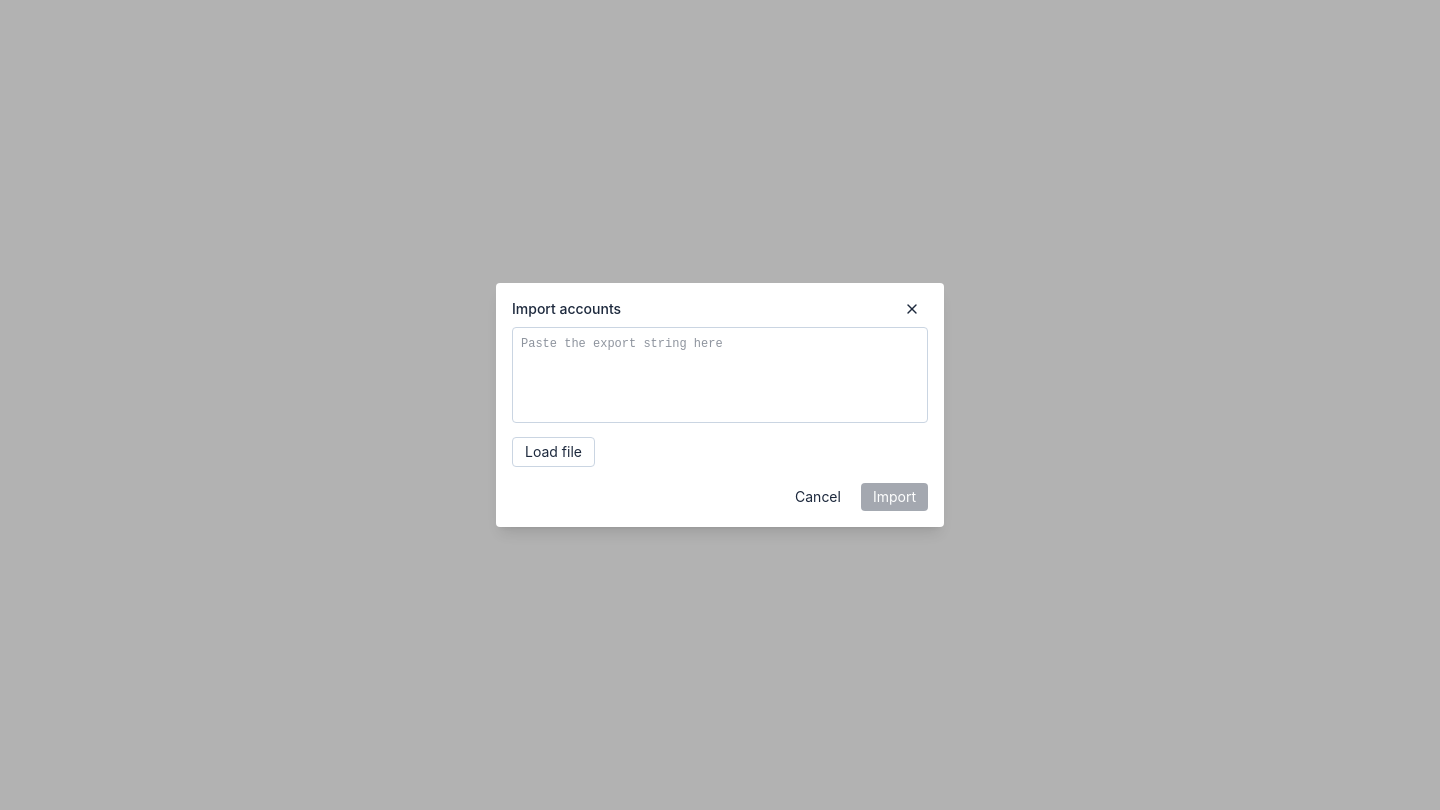
ImportAccountsDialog › shows an inline error on an incorrect password and keeps Import disabled
Type "ENC" into the text box named "Import data".
click(720, 375); type("ENC")  # box [512, 327, 928, 423]
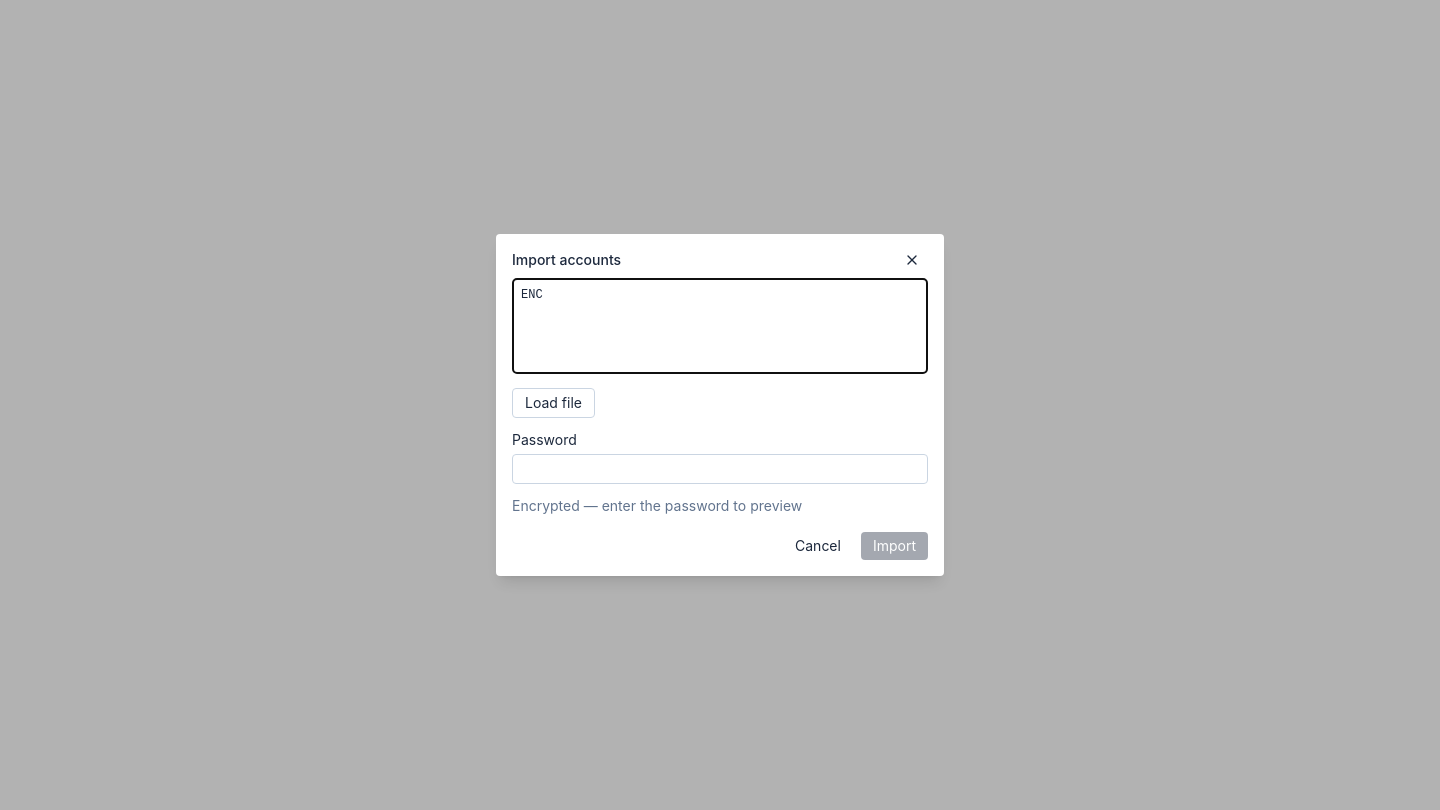
Type "wrong" into the password field labelled "Password".
click(720, 469); type("wrong")  # box [512, 454, 928, 484]
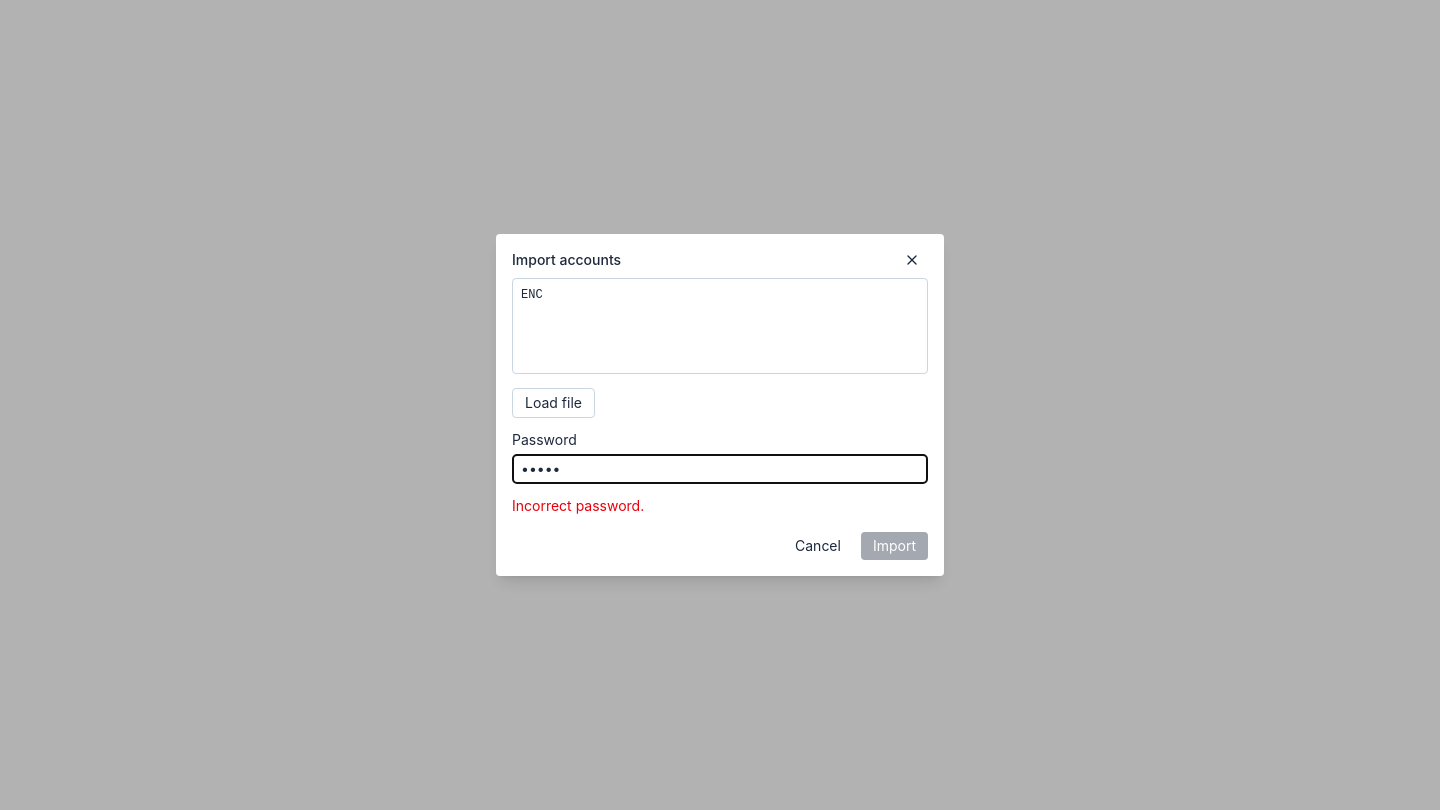
Expected: the button "Import" is disabled, [861, 532, 928, 560]
Expected: the text "Incorrect password." is shown, [512, 497, 644, 514]
